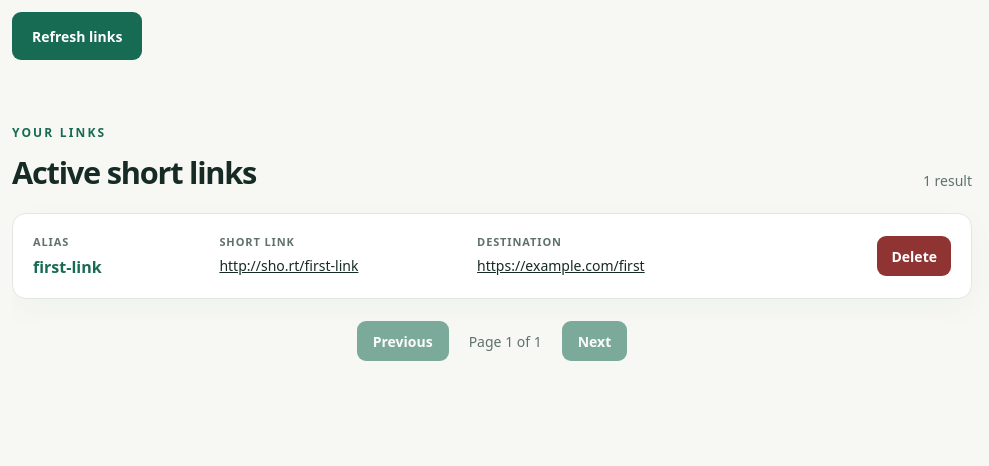
Test: ShortLinkList › shows a fallback when the deletion response is not valid JSON
This screenshot has width=989, height=466.
Expected: the text "first-link" is shown, [33, 256, 102, 278]
Click the button "Delete".
click(914, 256)  # box [878, 236, 951, 276]
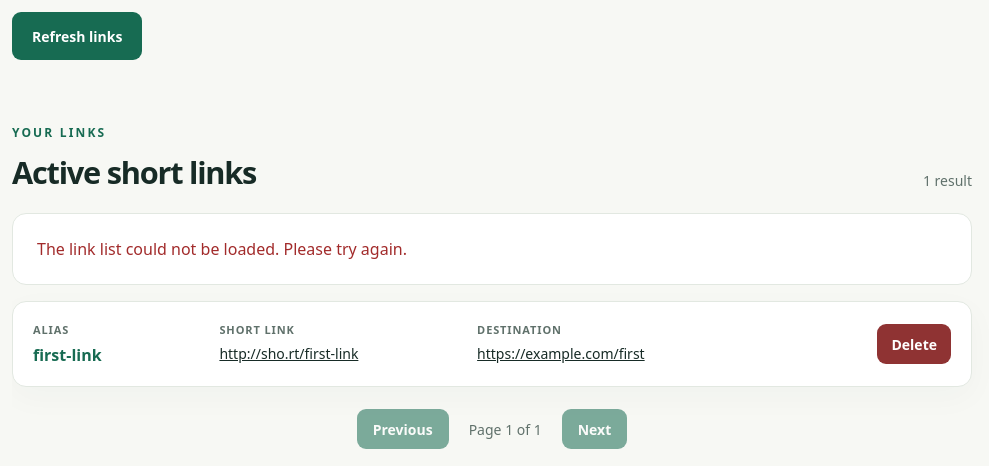
Expected: the text "first-link" is shown, [33, 344, 102, 366]
Expected: the message reads "The link list could not be loaded. Please try again.", [37, 238, 407, 260]
